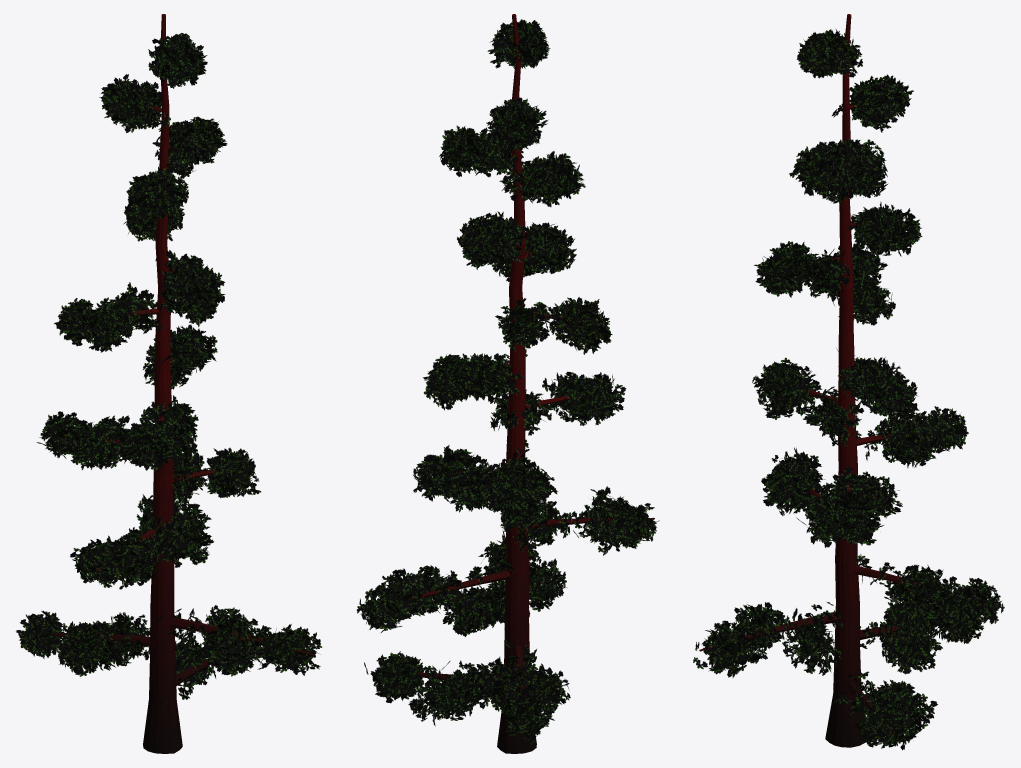
Rendered from spruce_conifer_v02.glb.
3 views of the same model, side by side, from view 1: azimuth 30°, elevation 25°; view 2: azimuth 150°, elevation 25°; view 3: azimuth 270°, elevation 25° (orthographic).
Parts seen in each view (by area): view 1: spruce_conifer_v02; view 2: spruce_conifer_v02; view 3: spruce_conifer_v02.
Part boxes in pixels (<box>): spruce_conifer_v02: <box>16,14,322,753</box>; spruce_conifer_v02: <box>356,14,659,753</box>; spruce_conifer_v02: <box>693,14,1004,750</box>.
Size of the model in its own units: 9.81 by 28.01 by 11.04.
2 materials, 2 textured.
